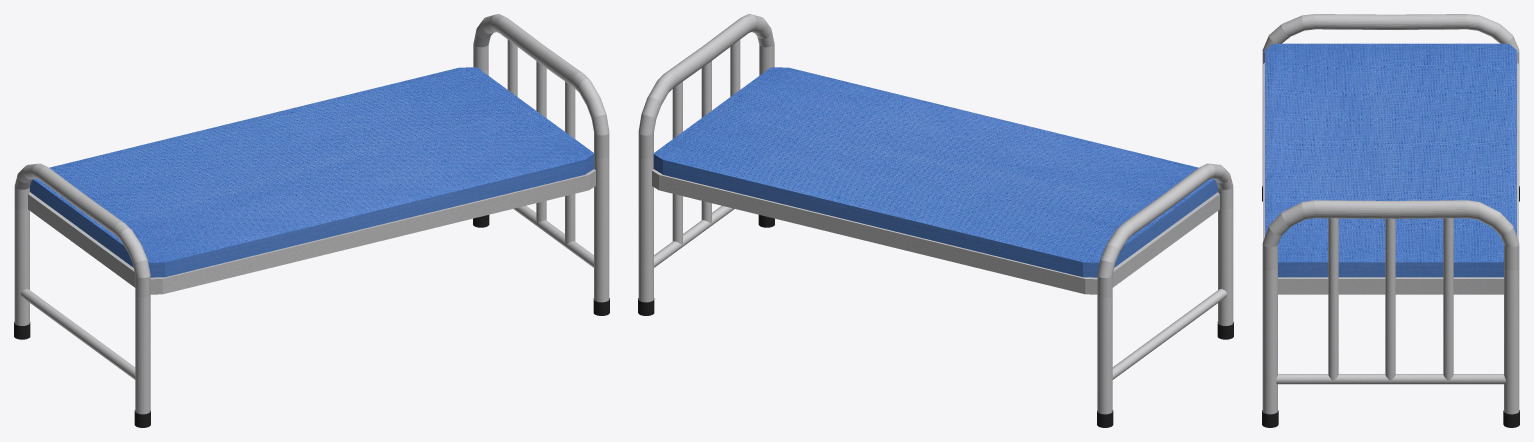
File: bed.glb
The picture shows the model from 3 angles, left to right: view 1: azimuth 30°, elevation 25°; view 2: azimuth 150°, elevation 25°; view 3: azimuth 270°, elevation 25°; orthographic projection.
Parts seen in each view (by area): view 1: Cube.001, Bed, Cylinder, Cylinder.002, Cylinder.003, Cylinder.001, Cylinder.004, Cylinder.008, Cylinder.006, Cylinder.007, Cylinder.009; view 2: Cube.001, Bed, Cylinder.001, Cylinder.003, Cylinder.002, Cylinder, Cylinder.004, Cylinder.009, Cylinder.006, Cylinder.007, Cylinder.008; view 3: Cube.001, Cylinder, Cylinder.001, Bed, Cylinder.006, Cylinder.002, Cylinder.003, Cylinder.008, Cylinder.009, Cylinder.007.
Boxes of the visible parts, bbox=[...] form: Cube.001: bbox=[30, 67, 594, 277]; Bed: bbox=[28, 169, 595, 294]; Cylinder: bbox=[534, 45, 609, 302]; Cylinder.002: bbox=[76, 195, 150, 414]; Cylinder.003: bbox=[14, 163, 85, 325]; Cylinder.001: bbox=[473, 14, 544, 75]; Cylinder.004: bbox=[20, 289, 135, 379]; Cylinder.008: bbox=[565, 81, 575, 244]; Cylinder.006: bbox=[513, 206, 593, 267]; Cylinder.007: bbox=[536, 61, 546, 223]; Cylinder.009: bbox=[507, 39, 517, 96]; Cube.001: bbox=[653, 67, 1217, 277]; Bed: bbox=[652, 169, 1219, 294]; Cylinder.001: bbox=[638, 45, 713, 302]; Cylinder.003: bbox=[1097, 195, 1171, 414]; Cylinder.002: bbox=[1161, 163, 1233, 325]; Cylinder: bbox=[703, 14, 774, 75]; Cylinder.004: bbox=[1112, 289, 1227, 379]; Cylinder.009: bbox=[672, 81, 682, 244]; Cylinder.006: bbox=[654, 206, 734, 267]; Cylinder.007: bbox=[701, 61, 711, 223]; Cylinder.008: bbox=[730, 39, 740, 96]; Cube.001: bbox=[1265, 43, 1516, 277]; Cylinder: bbox=[1262, 200, 1390, 414]; Cylinder.001: bbox=[1391, 200, 1519, 414]; Bed: bbox=[1263, 62, 1518, 294]; Cylinder.006: bbox=[1276, 374, 1505, 384]; Cylinder.002: bbox=[1262, 14, 1390, 187]; Cylinder.003: bbox=[1391, 14, 1519, 187]; Cylinder.008: bbox=[1328, 218, 1338, 380]; Cylinder.009: bbox=[1443, 218, 1453, 380]; Cylinder.007: bbox=[1385, 218, 1395, 380].
Size of the model in its own units: 8.49 by 3.83 by 4.01.
Materials: 4 (4 with a texture image).
